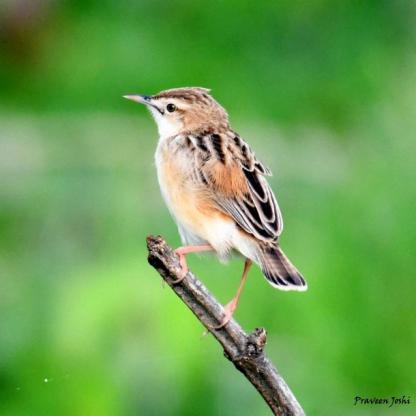Burung: (122, 87, 308, 329)
